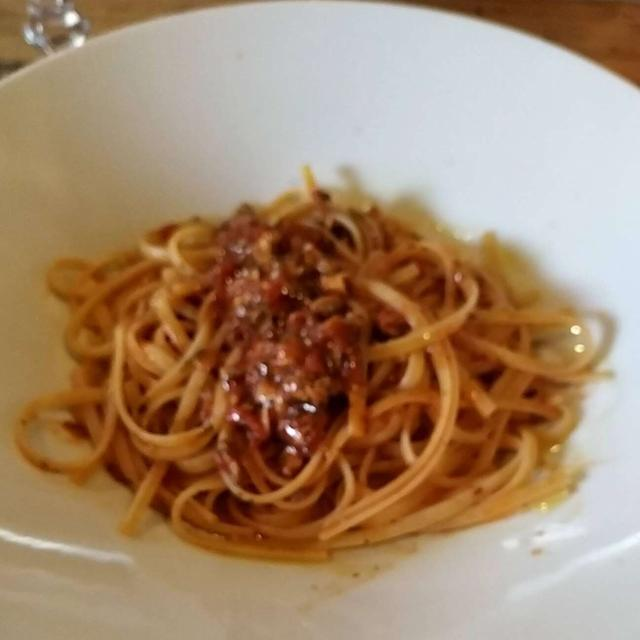bolognaise-sauce: (218, 211, 360, 480)
pasta: (28, 173, 598, 556)
